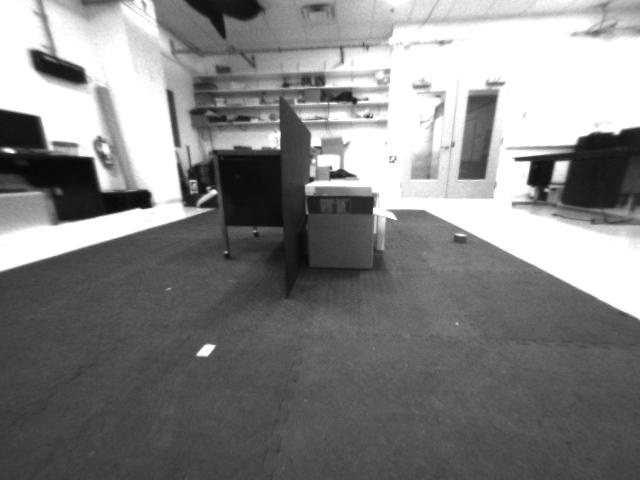dogtoy: (447, 224, 479, 253)
